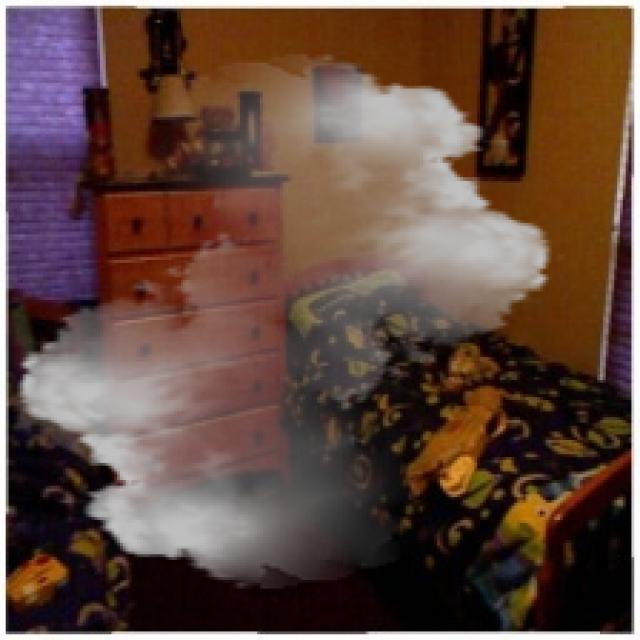Smoke: (0, 54, 569, 589)
